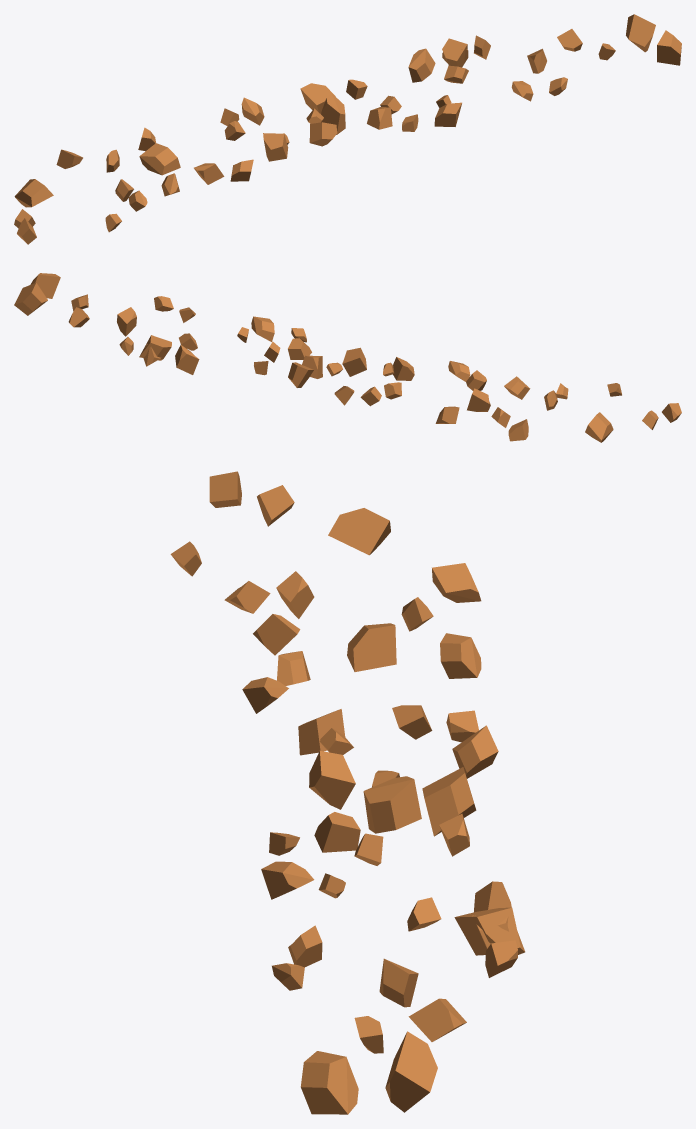
File: Rubbles_line.fbx
The picture shows the model from 3 angles, top to bottom: view 1: azimuth 30°, elevation 25°; view 2: azimuth 150°, elevation 25°; view 3: azimuth 270°, elevation 25°; orthographic projection. The views are drawn at different scales.
Visible parts, largest first — view 1: 立方体.037; view 2: 立方体.037; view 3: 立方体.037.
Boxes of the visible parts, left/top/right/bottom form: 立方体.037: left=14, top=14, right=681, bottom=244; 立方体.037: left=14, top=273, right=681, bottom=442; 立方体.037: left=170, top=471, right=525, bottom=1114.
Size of the model in its own units: 1289 by 317 by 71.51.
